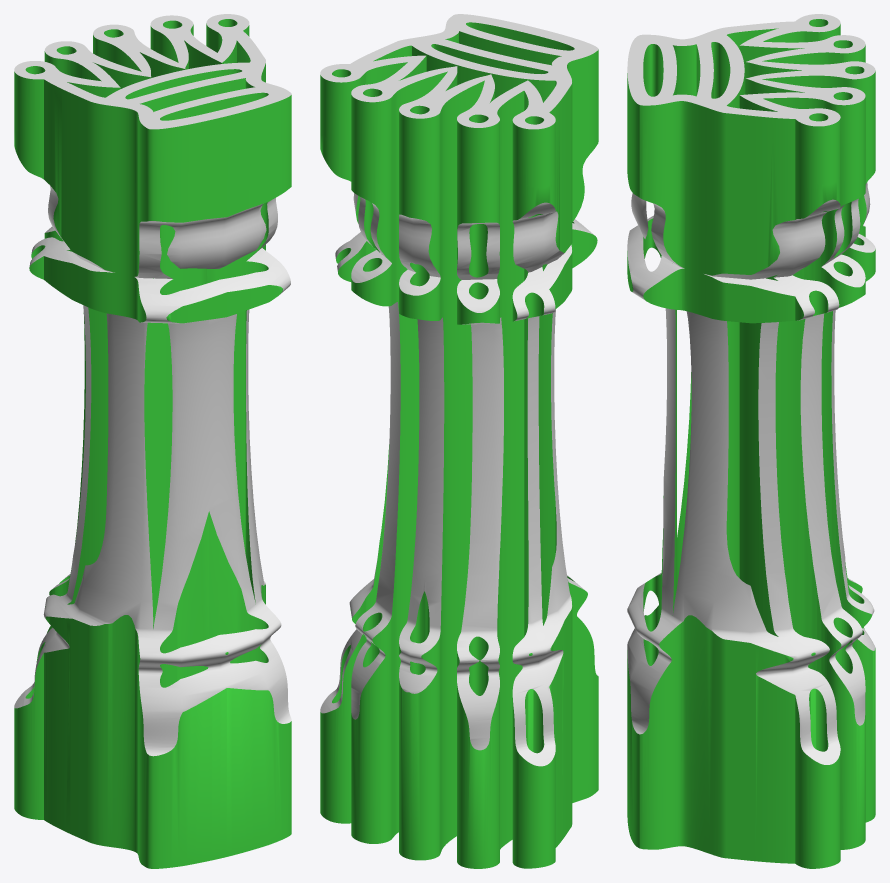
File: White_Queen.fbx
The picture shows the model from 3 angles, left to right: view 1: azimuth 30°, elevation 25°; view 2: azimuth 150°, elevation 25°; view 3: azimuth 270°, elevation 25°; orthographic projection.
Visible parts, largest first — view 1: White_Queen; view 2: White_Queen; view 3: White_Queen.
Part boxes in pixels (x1,y1,x2,y2): White_Queen: [14, 14, 291, 868]; White_Queen: [320, 14, 598, 868]; White_Queen: [627, 14, 875, 868].
Size of the model in its own units: 47.01 by 43.82 by 145.
